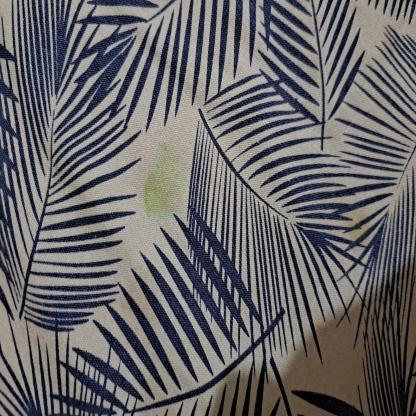spot: (58, 162, 108, 258), (139, 143, 187, 230), (340, 201, 372, 248), (324, 110, 348, 155)
